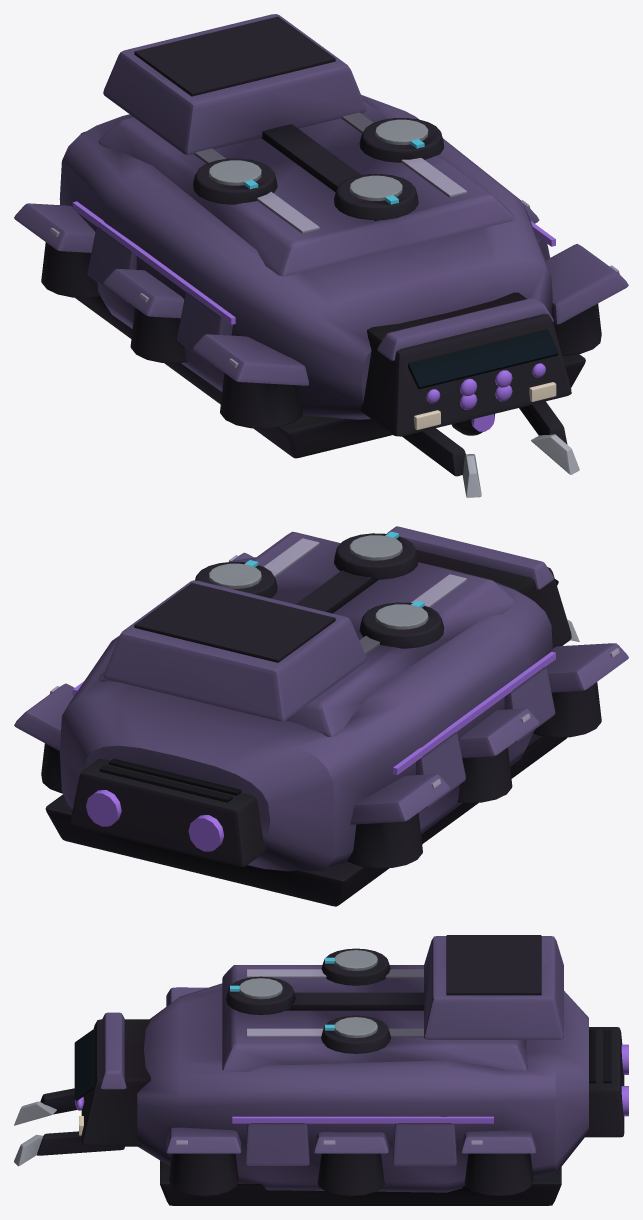
The model's file is ex_strider_5.glb.
The picture shows the model from 3 angles, top to bottom: view 1: azimuth 30°, elevation 25°; view 2: azimuth 150°, elevation 25°; view 3: azimuth 270°, elevation 25°; orthographic projection. The views are drawn at different scales.
Parts seen in each view (by area): view 1: body; view 2: body; view 3: body.
Boxes of the visible parts, x1,y1,x2,y2 form: body: [14, 14, 628, 497]; body: [14, 526, 628, 906]; body: [14, 935, 628, 1205].
Bounding box in the file's own units: 5.75 × 3.18 × 9.45.
